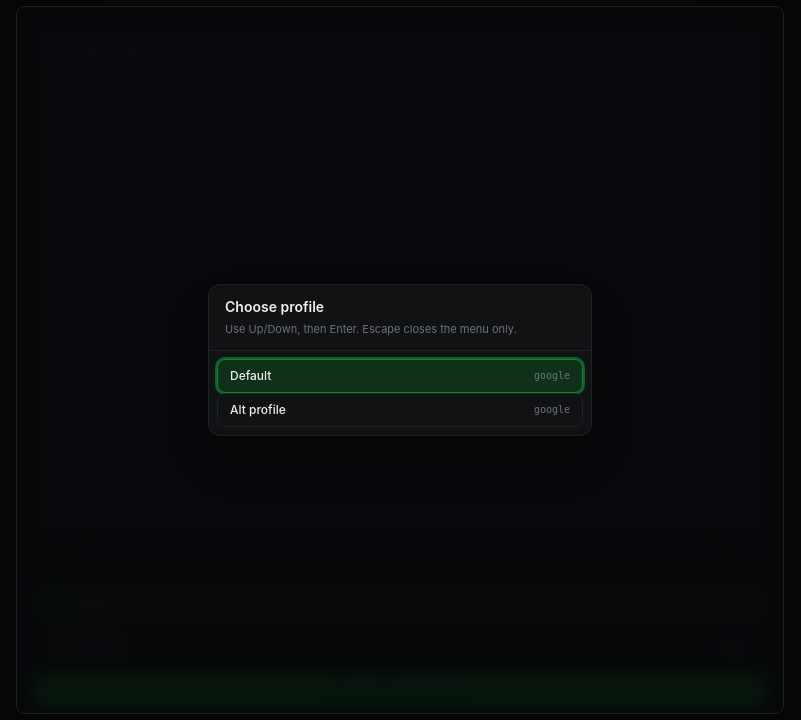
scratch-space-app › selects a profile from the scratch-local preset menu and returns focus to the textarea
This screenshot has width=801, height=720.
Click the button "Alt profile google".
click(258, 409)  # box [217, 393, 583, 427]
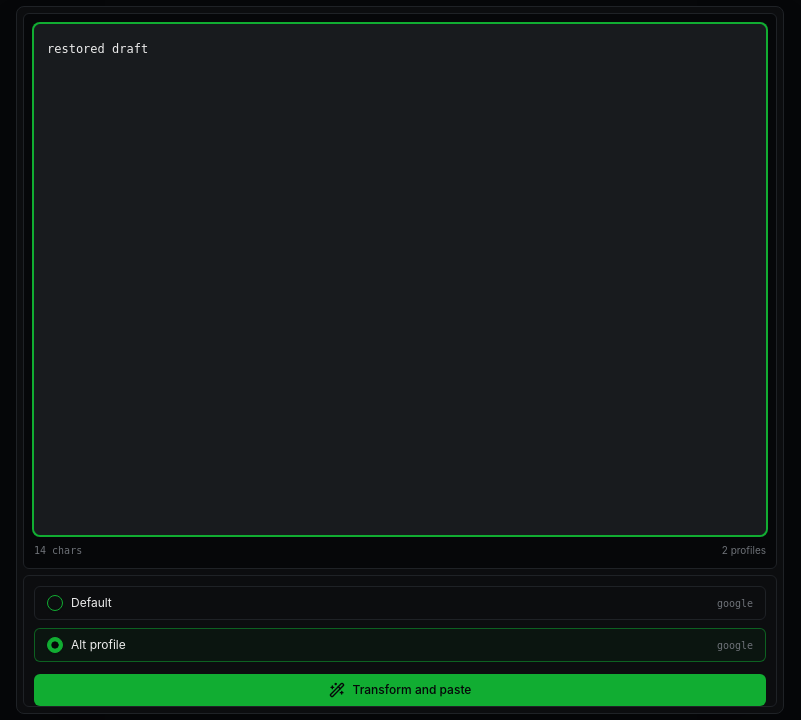
Expected: the element with test id "scratch-space-preset-menu" is gone
